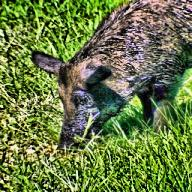boar: (31, 0, 191, 152)
